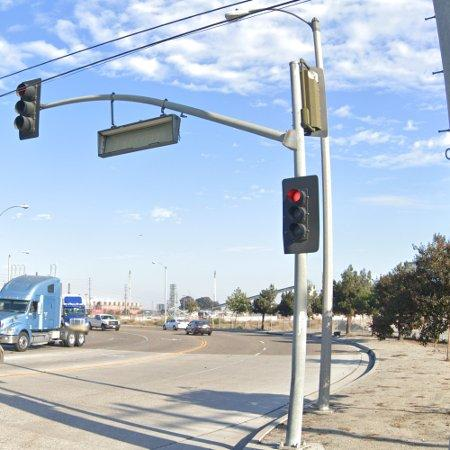traffic lights: (284, 176, 318, 255), (15, 78, 40, 140)
